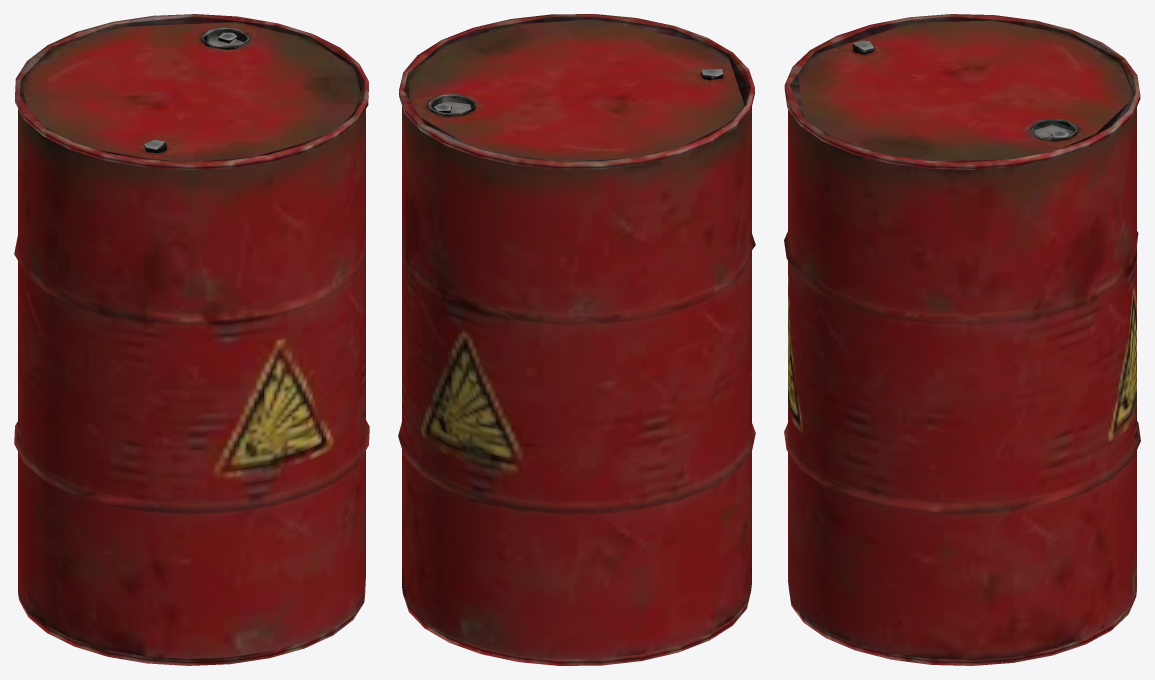
The model's file is Barrel_01.glb.
3 renders of one model, left to right at view 1: azimuth 30°, elevation 25°; view 2: azimuth 150°, elevation 25°; view 3: azimuth 270°, elevation 25°, orthographic.
Parts seen in each view (by area): view 1: Barrel_01; view 2: Barrel_01; view 3: Barrel_01.
Part boxes in pixels (x1,y1,x2,y2): Barrel_01: (14,14,369,665); Barrel_01: (398,14,755,665); Barrel_01: (784,14,1140,665).
Size of the model in its own units: 0.5627 by 0.8789 by 0.5627.
1 material, 1 textured.
